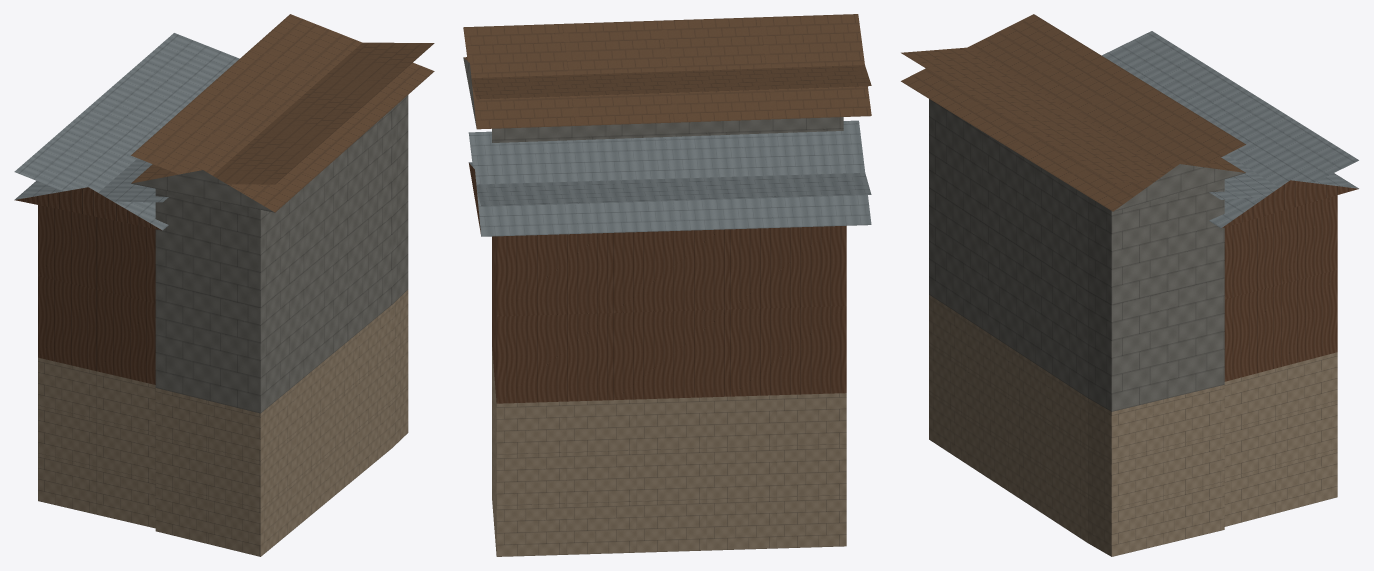
File: bld_c-4_10_561.gltf
3 views of the same model, side by side, from view 1: azimuth 30°, elevation 25°; view 2: azimuth 150°, elevation 25°; view 3: azimuth 270°, elevation 25° (orthographic). The views are drawn at different scales.
Visible parts, largest first — view 1: bld_c-4_10_561; view 2: bld_c-4_10_561; view 3: bld_c-4_10_561.
Boxes of the visible parts, x1,y1,x2,y2 form: bld_c-4_10_561: [14, 14, 434, 556]; bld_c-4_10_561: [463, 14, 871, 556]; bld_c-4_10_561: [901, 14, 1358, 556].
Size of the model in its own units: 14.93 by 13.6 by 14.62.
Materials: 7 (7 with a texture image).
